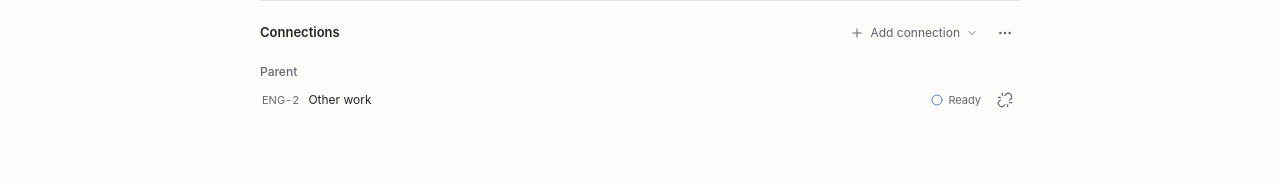
dismisses connection actions with Escape or an outside pointer and keeps parent authority intact
The image size is (1280, 184).
Click the button "Add connection" at (914, 33), box [842,17,986,49]
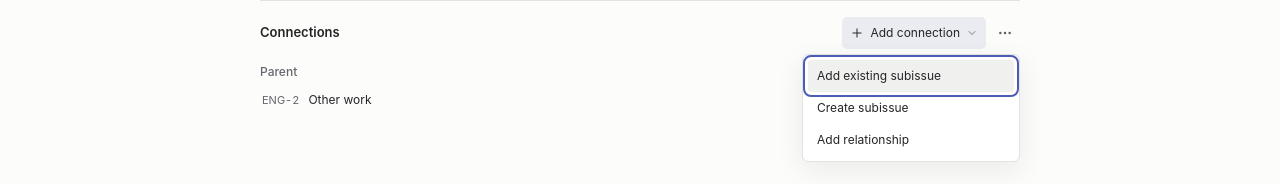
Check: the text "Other work" is shown, box [308,92,372,107]
Press Escape in the button "Add existing subissue", box [808,60,1014,92]
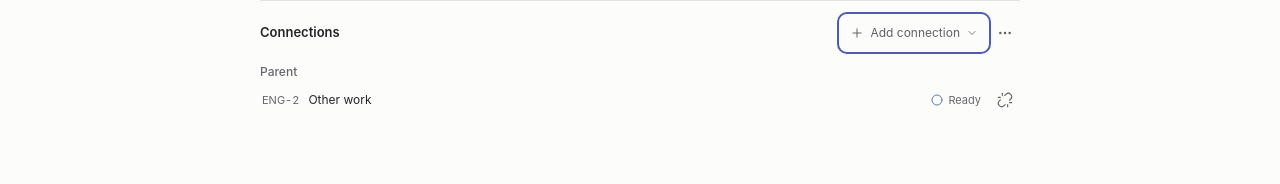
Check: the element with class "graph-action-popover" is gone
Click the button named "More connection actions" at (1004, 33), box [989,18,1020,48]
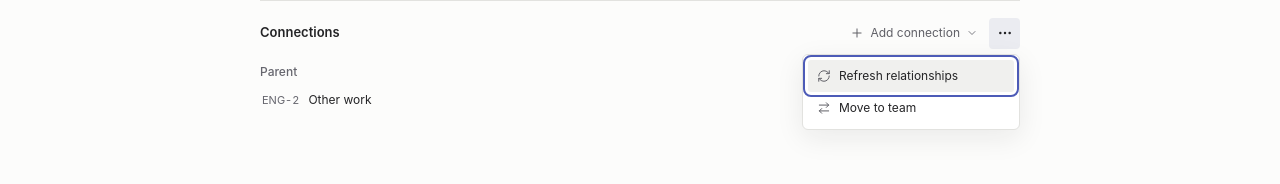
Press the mouse on the element that starts with "Connections" at (640, 60), box [0,0,1279,119]
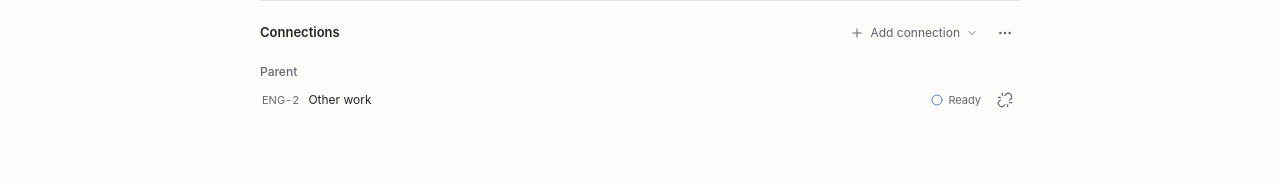
Check: the element with class "graph-action-popover" is gone
